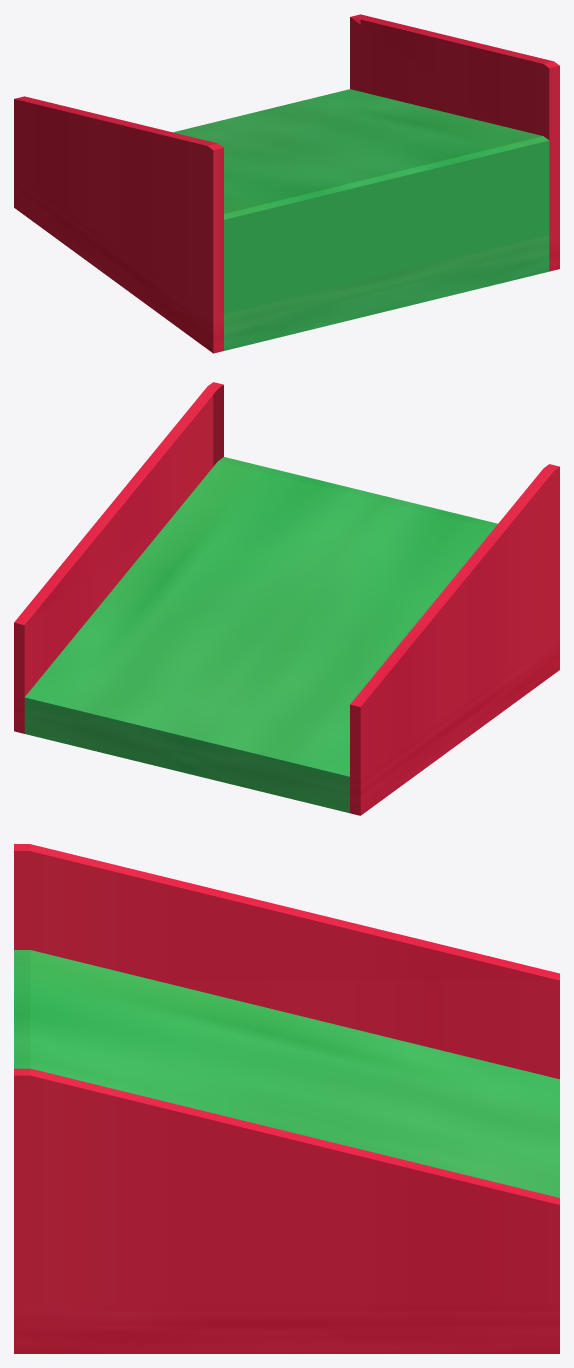
Rendered from SlopeSimple.fbx.
3 renders of one model, top to bottom at view 1: azimuth 30°, elevation 25°; view 2: azimuth 150°, elevation 25°; view 3: azimuth 270°, elevation 25°, orthographic. The views are drawn at different scales.
Parts seen in each view (by area): view 1: SlopeSimple, Fence; view 2: SlopeSimple, Fence; view 3: Fence, SlopeSimple.
Boxes of the visible parts, x1,y1,x2,y2 form: SlopeSimple: (173, 89, 549, 350); Fence: (14, 14, 559, 353); SlopeSimple: (24, 457, 497, 813); Fence: (14, 382, 559, 815); Fence: (14, 844, 559, 1353); SlopeSimple: (14, 950, 559, 1197).
Bounding box in the file's own units: 100 × 56.23 × 99.98.
